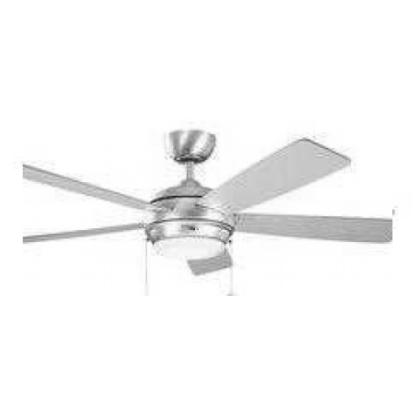ceiling-fan: (23, 127, 393, 296)
